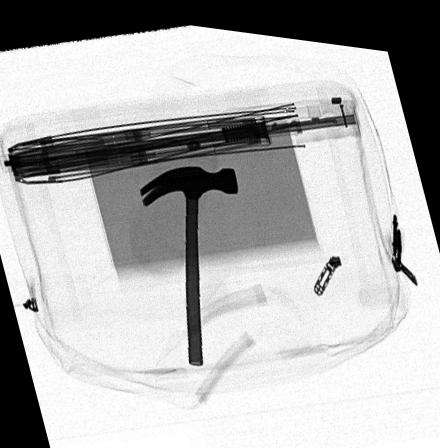Hammer: (139, 160, 238, 361)
